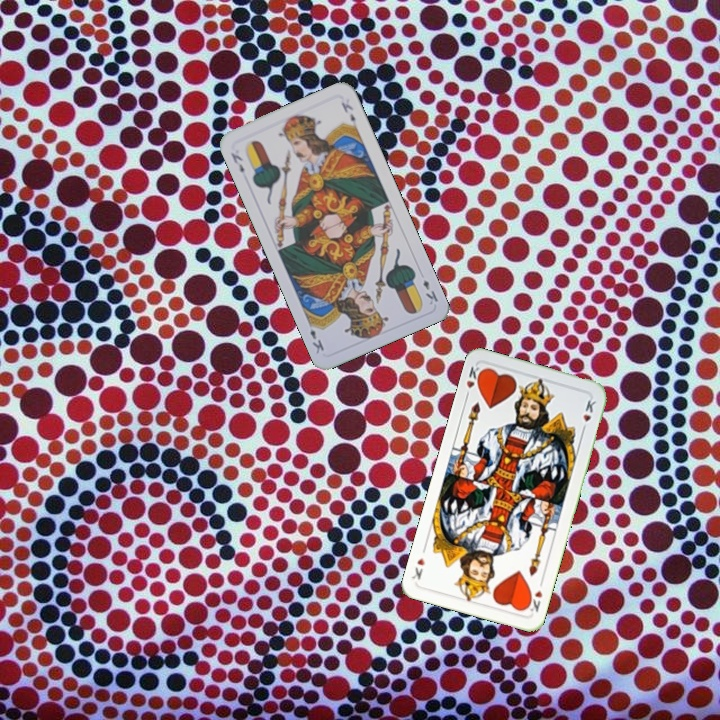EK: (419, 276, 441, 307), (227, 148, 247, 176)
HK: (461, 361, 486, 401), (522, 576, 546, 615)
